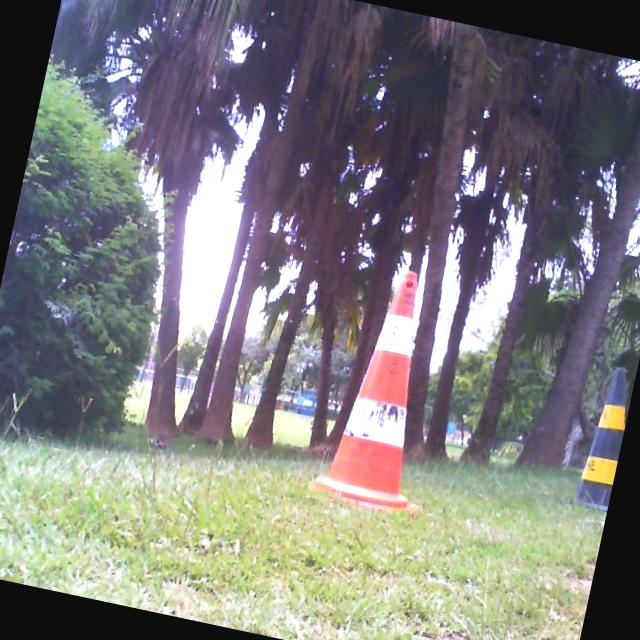cone: (306, 261, 470, 518), (562, 363, 636, 513)
